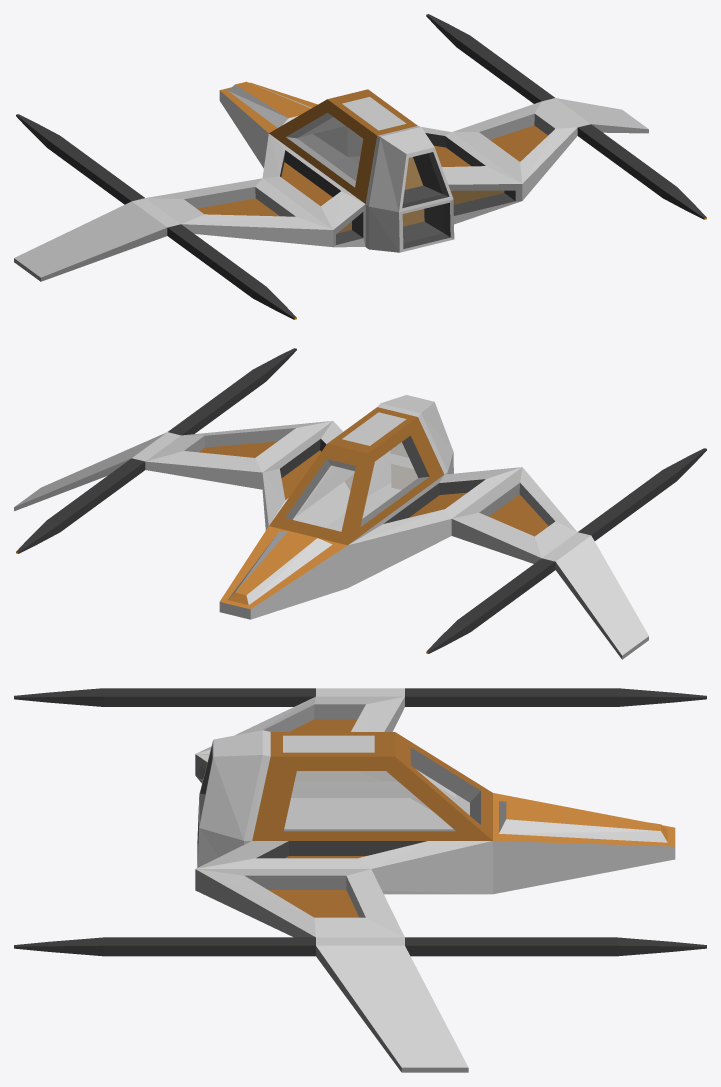
File: orangeship.fbx
3 views of the same model, one above another, from view 1: azimuth 30°, elevation 25°; view 2: azimuth 150°, elevation 25°; view 3: azimuth 270°, elevation 25° (orthographic). The views are drawn at different scales.
Visible parts, largest first — view 1: orangeship; view 2: orangeship; view 3: orangeship.
Part boxes in pixels (x1=…): orangeship: x1=14, y1=14, x2=706, y2=319; orangeship: x1=14, y1=348, x2=706, y2=659; orangeship: x1=14, y1=688, x2=706, y2=1072.
Bounding box in the file's own units: 40.19 × 7.37 × 31.84.
